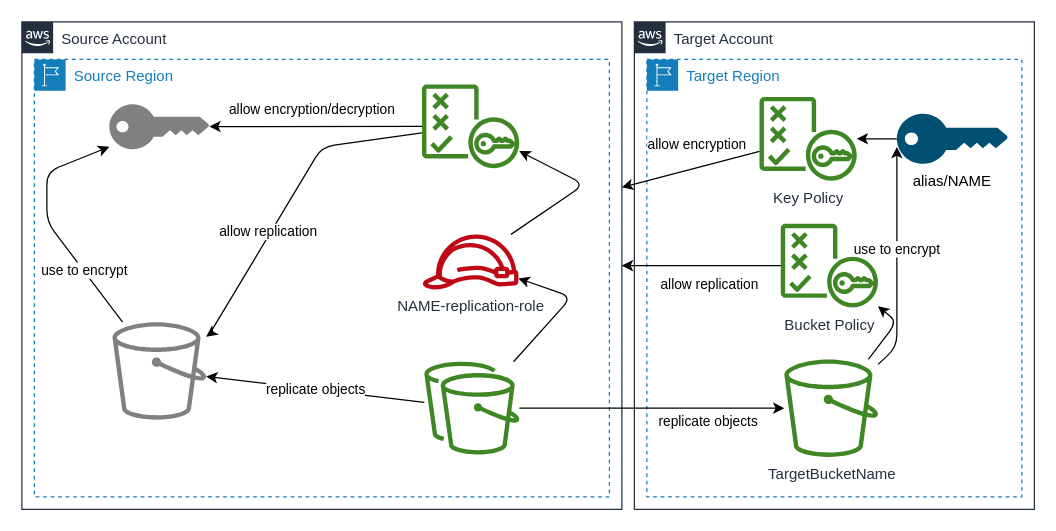
Image size: 1056x531. Some labels were removed from this diagram. The shapes that lost their labels are listed below. From the top down, each one's centre as x and y in pixels, then its label:
(159,126): CMK used for Encryption of Source Bucket (not managed by this module)
(470,126): NAME-replication-policy
(159,370): Source Bucket (not managed by this module)
(471,407): Bucket Replication
